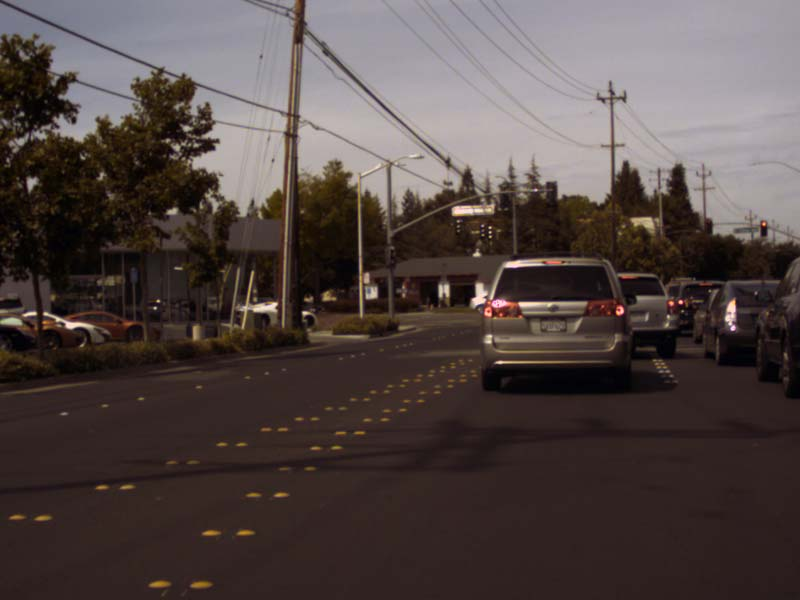Red: (760, 221, 766, 234)
